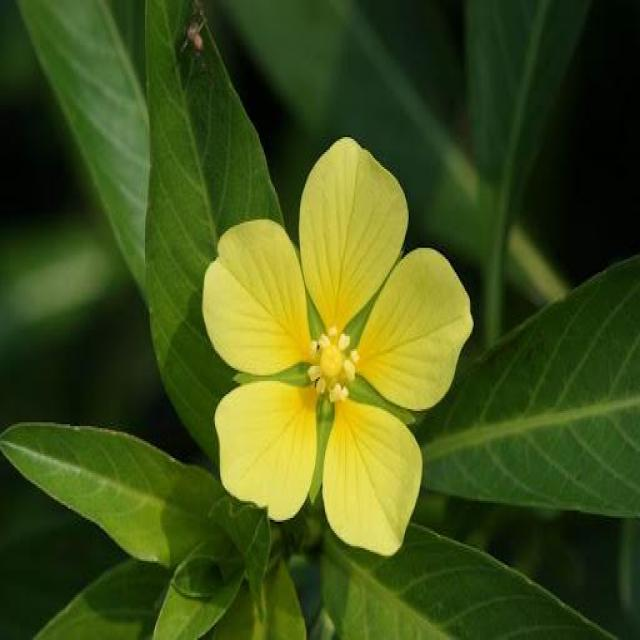organic waste: (192, 128, 473, 561)
